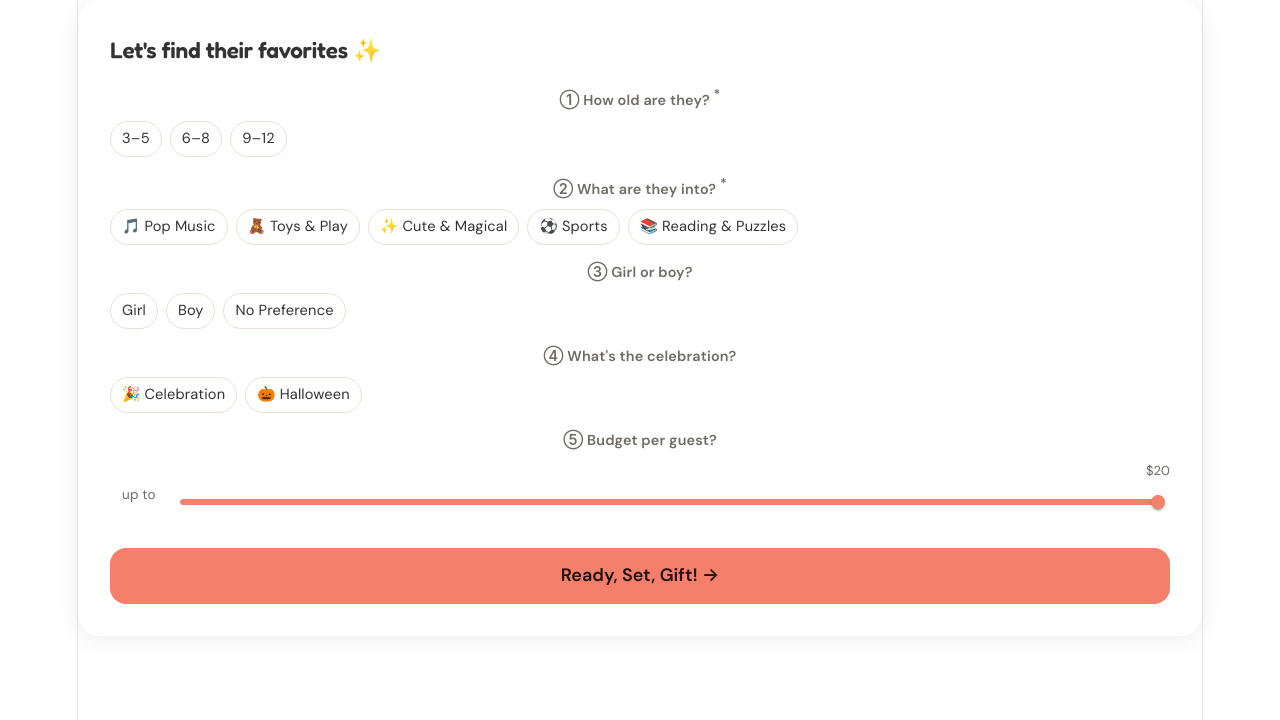
GiftFinder — recommendation navigation › shows error when age/interest not selected and submit is clicked
Click the button "Ready, Set, Gift! →": (640, 576) [110, 548, 1170, 604]
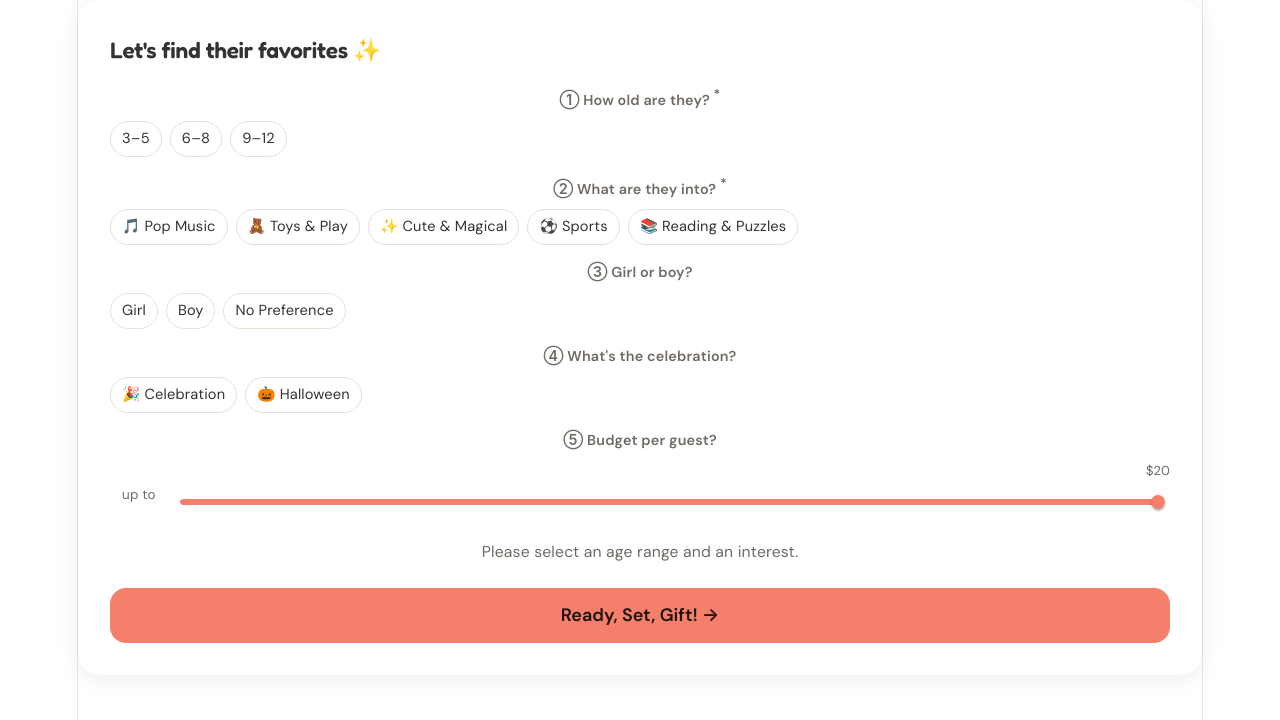
Expected: the message shows "Please select an age range and an interest", [482, 541, 798, 562]
